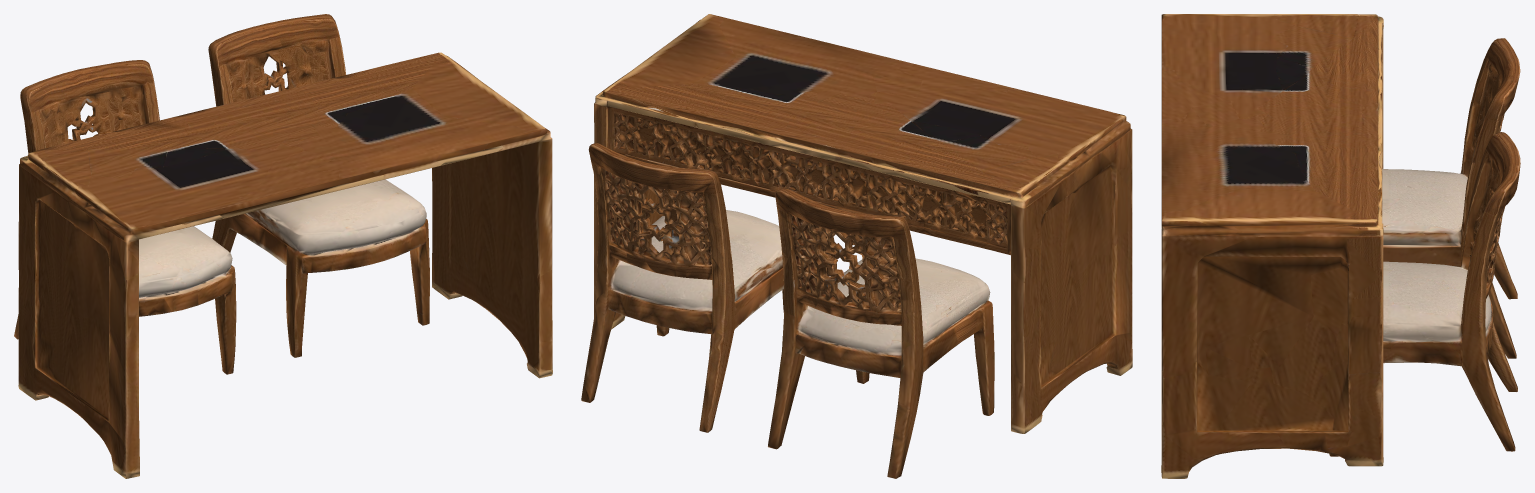
The model's file is class_desk.glb.
3 views of the same model, side by side, from view 1: azimuth 30°, elevation 25°; view 2: azimuth 150°, elevation 25°; view 3: azimuth 270°, elevation 25° (orthographic). The views are drawn at different scales.
Bounding box in the file's own units: 1.6 × 0.9082 × 1.13.
1 material, 1 textured.
